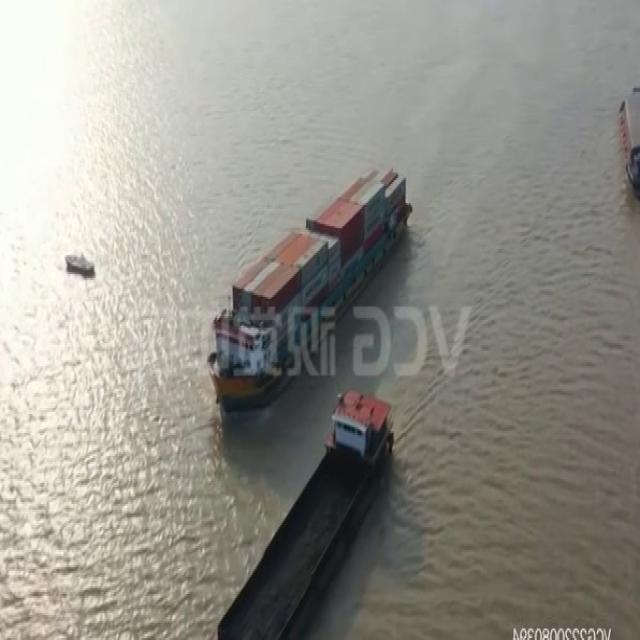cargoship: (209, 348, 402, 640), (202, 111, 424, 353)
